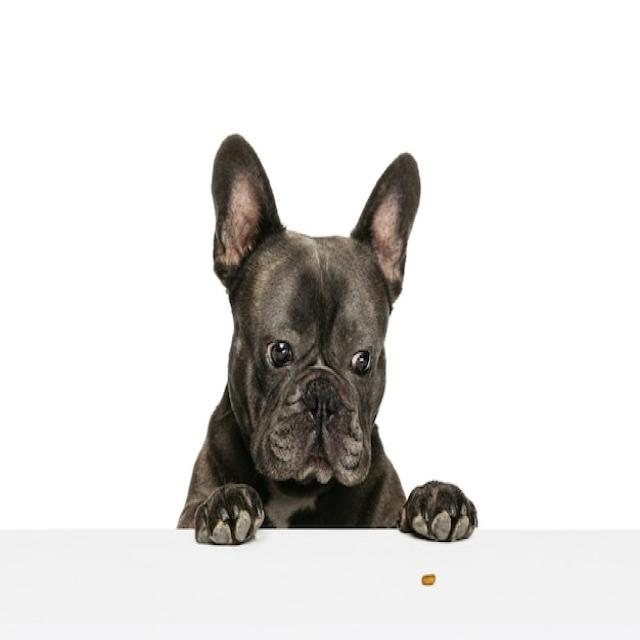Dog: (175, 130, 478, 546)
